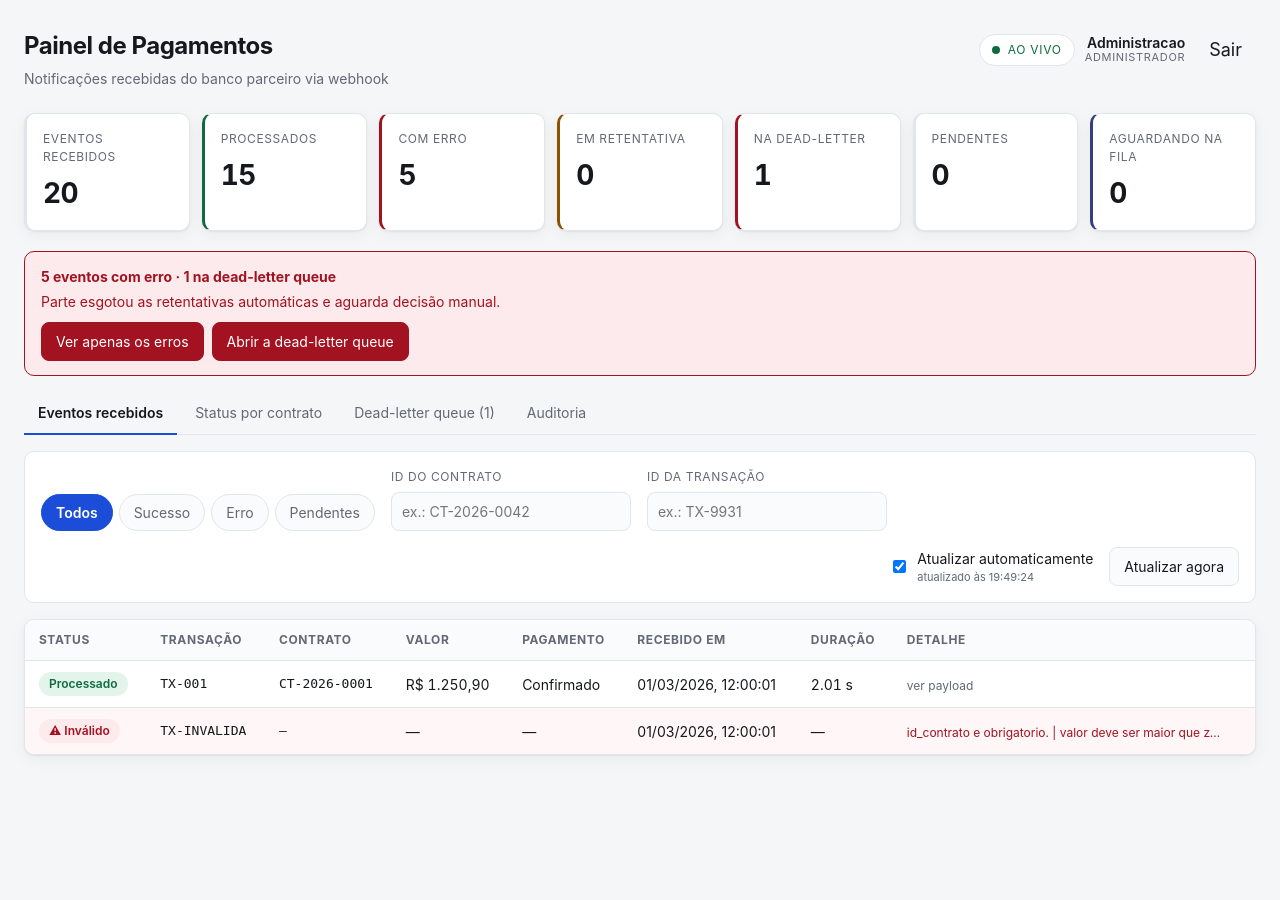
App › abre o detalhe do evento ao clicar na linha
Expected: the heading "Painel de Pagamentos" is shown, [24, 31, 273, 60]
Step 1. Click the text "TX-001" → {"x": 206, "y": 684}, box [146, 660, 265, 708]
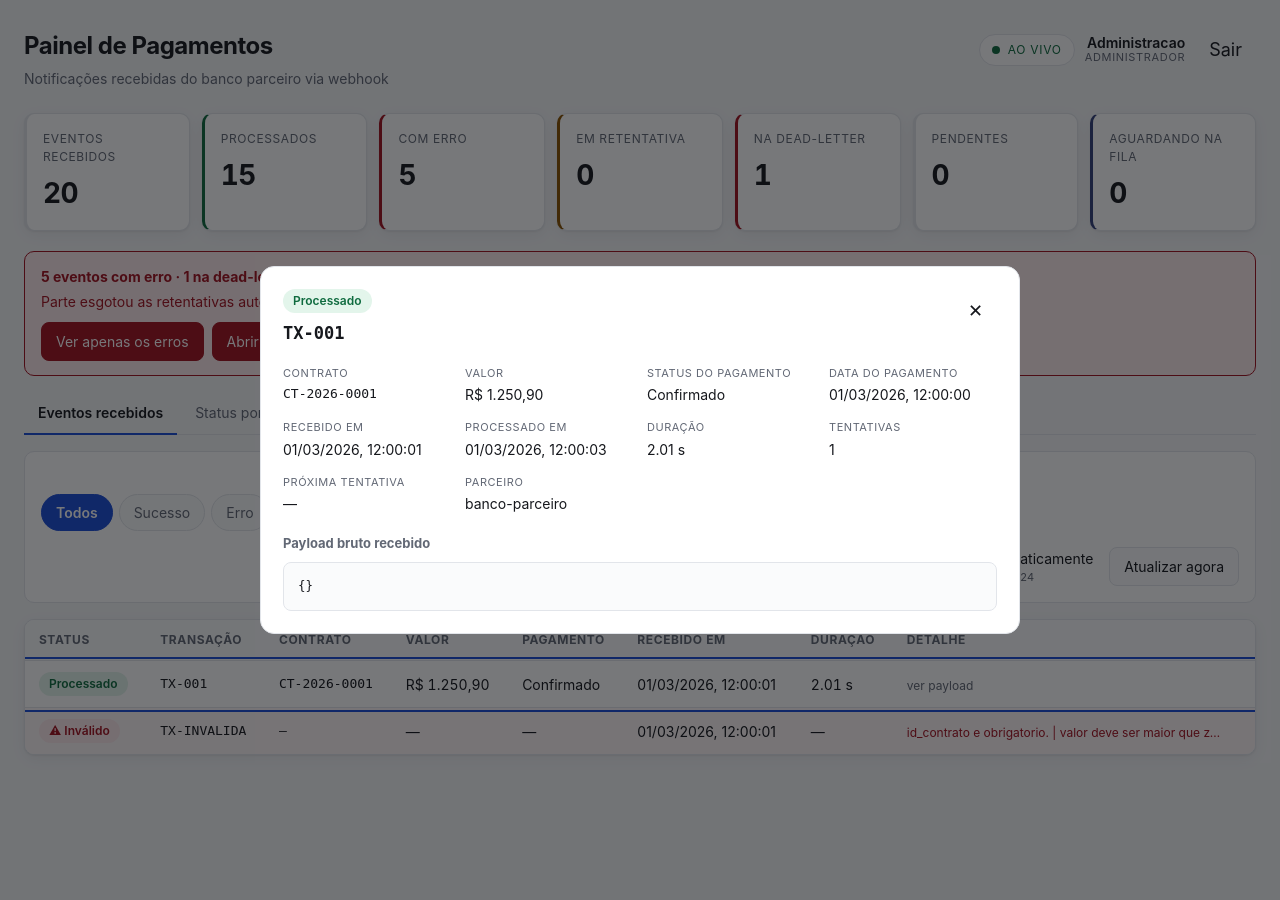
Result: the dialog is shown
